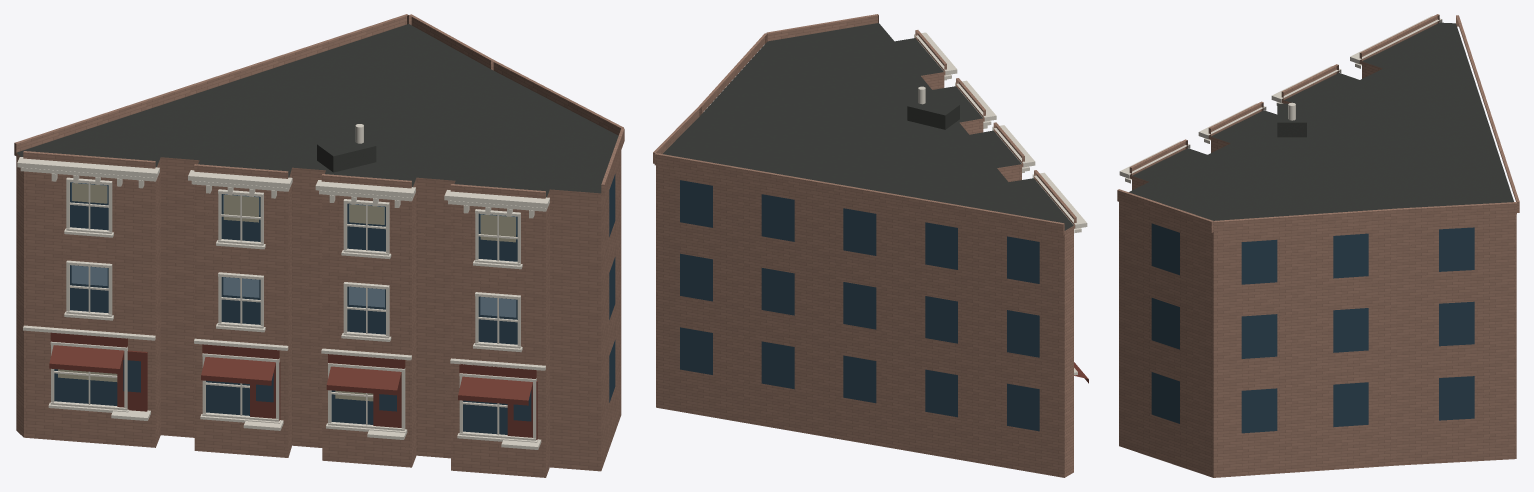
3 views of the same model, side by side, from view 1: azimuth 30°, elevation 25°; view 2: azimuth 150°, elevation 25°; view 3: azimuth 270°, elevation 25° (orthographic). The views are drawn at different scales.
Visible parts, largest first — view 1: Footprint 0 / surface 2, Footprint 0 / surface 1, Cornices and window frames, Inset glazing, Storefronts and doors, Facade bay volumes, Interior blind variation, Sky reflection panels, Inferred rooftop service enclosure / surface 5, Inferred rooftop service enclosure / surface 3; view 2: Footprint 0 / surface 2, Footprint 0 / surface 1, Inset glazing, Facade bay volumes, Cornices and window frames, Inferred rooftop service enclosure / surface 6, Inferred rooftop service enclosure / surface 3; view 3: Footprint 0 / surface 2, Footprint 0 / surface 1, Inset glazing, Facade bay volumes, Cornices and window frames, Inferred rooftop service enclosure / surface 1, Inferred rooftop service enclosure / surface 3.
Boxes of the visible parts, box(x1,y1,x2,y2) form: Footprint 0 / surface 2: box(16, 151, 621, 477); Footprint 0 / surface 1: box(17, 24, 618, 197); Cornices and window frames: box(17, 157, 549, 449); Inset glazing: box(54, 174, 615, 434); Storefronts and doors: box(49, 332, 537, 439); Facade bay volumes: box(14, 14, 624, 198); Interior blind variation: box(58, 183, 515, 401); Sky reflection panels: box(71, 182, 516, 317); Inferred rooftop service enclosure / surface 5: box(333, 146, 376, 172); Inferred rooftop service enclosure / surface 3: box(317, 135, 375, 156); Footprint 0 / surface 2: box(656, 72, 1073, 477); Footprint 0 / surface 1: box(663, 23, 1073, 230); Inset glazing: box(680, 180, 1039, 431); Facade bay volumes: box(653, 14, 1076, 235); Cornices and window frames: box(914, 32, 1087, 375); Inferred rooftop service enclosure / surface 6: box(907, 106, 945, 129); Inferred rooftop service enclosure / surface 3: box(907, 96, 959, 115); Footprint 0 / surface 2: box(1119, 61, 1516, 477); Footprint 0 / surface 1: box(1129, 22, 1513, 220); Inset glazing: box(1151, 223, 1474, 433); Facade bay volumes: box(1117, 14, 1519, 233); Cornices and window frames: box(1119, 16, 1442, 183); Inferred rooftop service enclosure / surface 1: box(1277, 122, 1306, 137); Inferred rooftop service enclosure / surface 3: box(1277, 103, 1306, 122).
Bounding box in the file's own units: 20.29 × 12.42 × 16.28.
